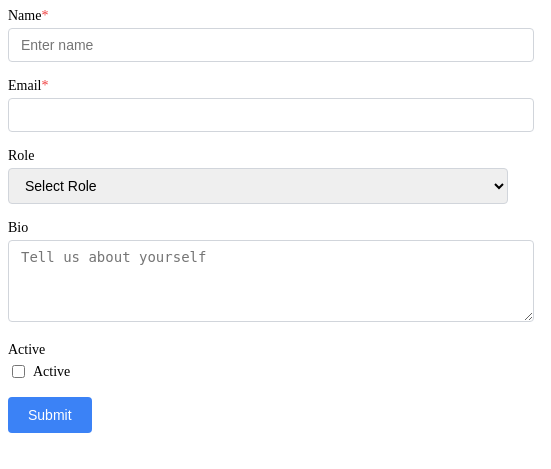
Scenario: DynamicForm Component › validates email pattern
The width and height of the screenshot is (551, 469).
Type "John Doe" into the field labelled "Name*" at (271, 45), box [8,28,534,62]
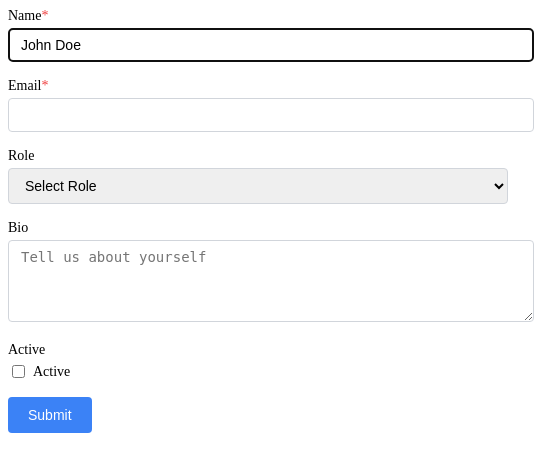
Type "invalid-email" into the field labelled "Email*" at (271, 115), box [8,98,534,132]
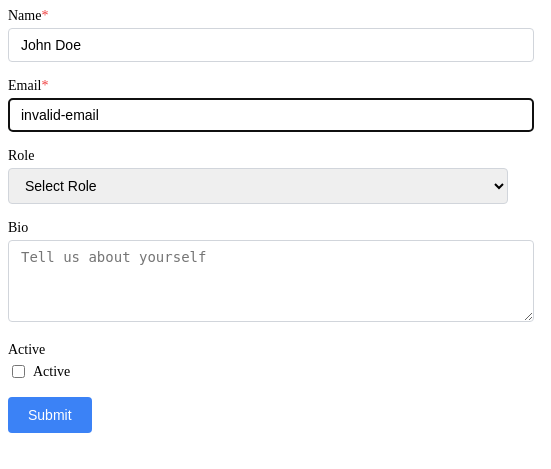
Submit the form
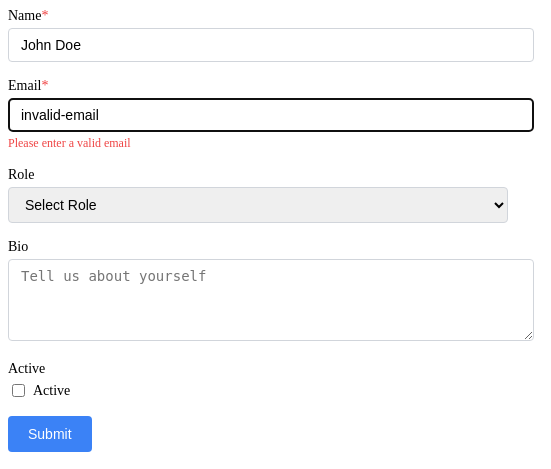
Check: the text "Please enter a valid email" is shown, box [8,136,131,150]
